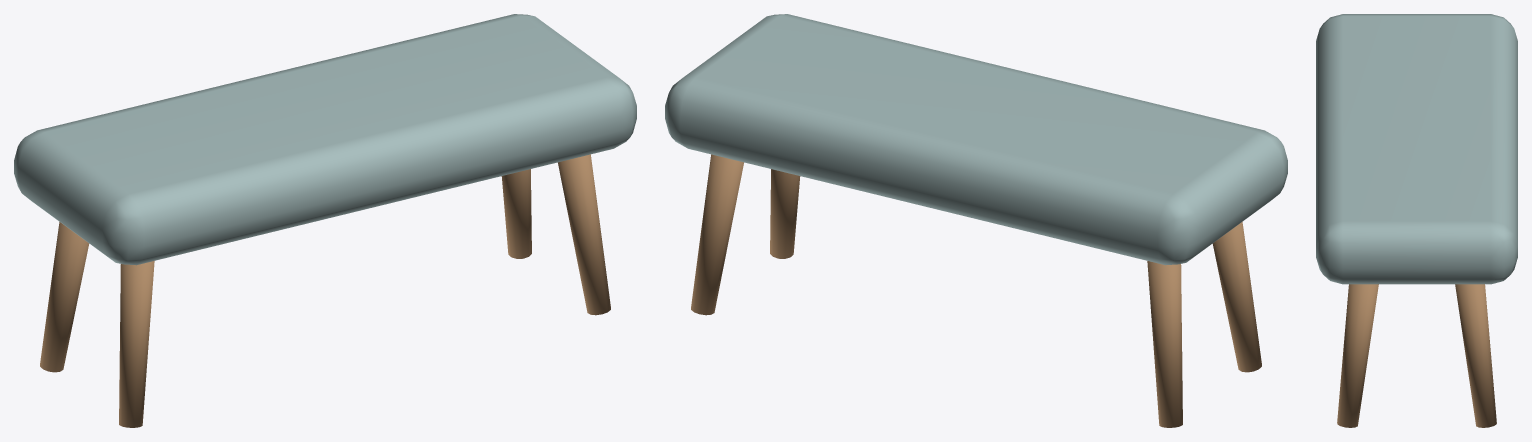
The model's file is atelier-bedroom-bench.glb.
3 renders of one model, left to right at view 1: azimuth 30°, elevation 25°; view 2: azimuth 150°, elevation 25°; view 3: azimuth 270°, elevation 25°, orthographic. The views are drawn at different scales.
Visible parts, largest first — view 1: fabric.043, legs.047; view 2: fabric.043, legs.047; view 3: fabric.043, legs.047.
Boxes of the visible parts, x1=… form: fabric.043: x1=14, y1=14, x2=636, y2=265; legs.047: x1=40, y1=154, x2=610, y2=427; fabric.043: x1=665, y1=14, x2=1287, y2=265; legs.047: x1=691, y1=154, x2=1261, y2=427; fabric.043: x1=1316, y1=14, x2=1517, y2=284; legs.047: x1=1337, y1=284, x2=1496, y2=427.
Size of the model in its own units: 1.2 by 0.5087 by 0.45.
